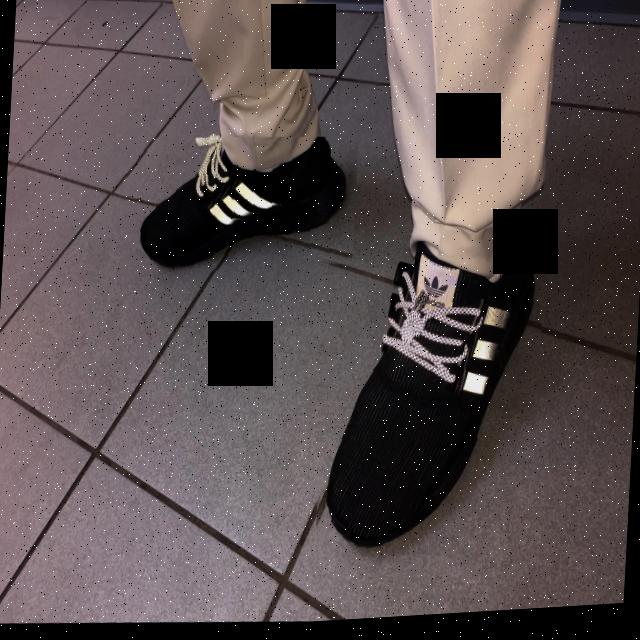shoe: (308, 196, 548, 592), (120, 129, 358, 290)
